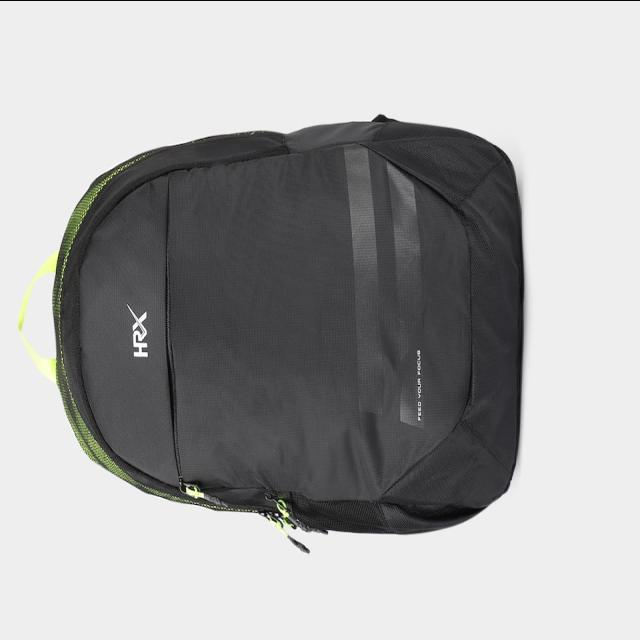backpack: (19, 114, 525, 552)
